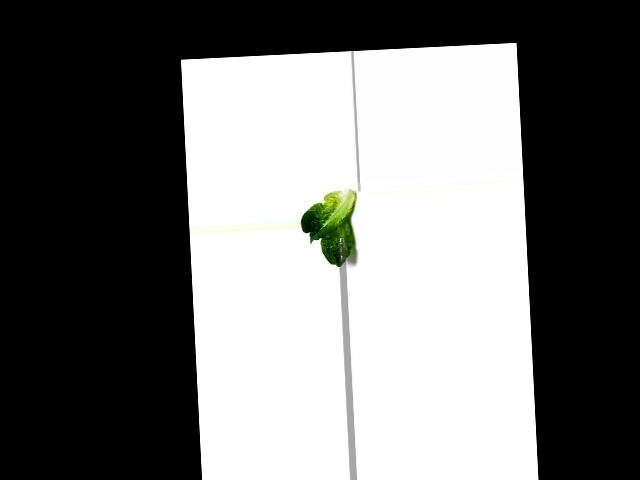lettuce: (299, 187, 356, 270)
